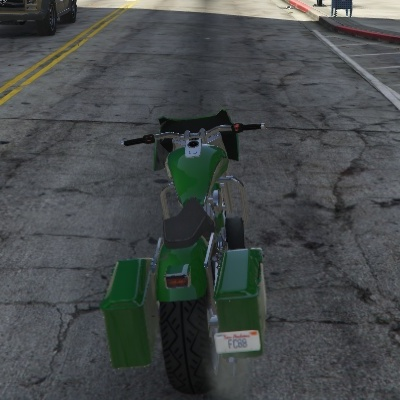off: (157, 254, 200, 297)
